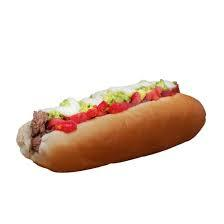Completos: (14, 78, 214, 174)
